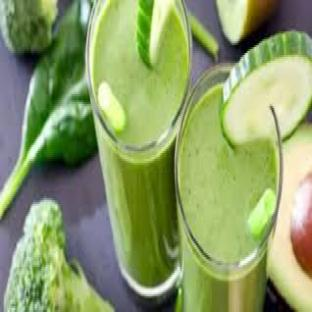Cucumber: (221, 32, 311, 145), (99, 83, 125, 133)
